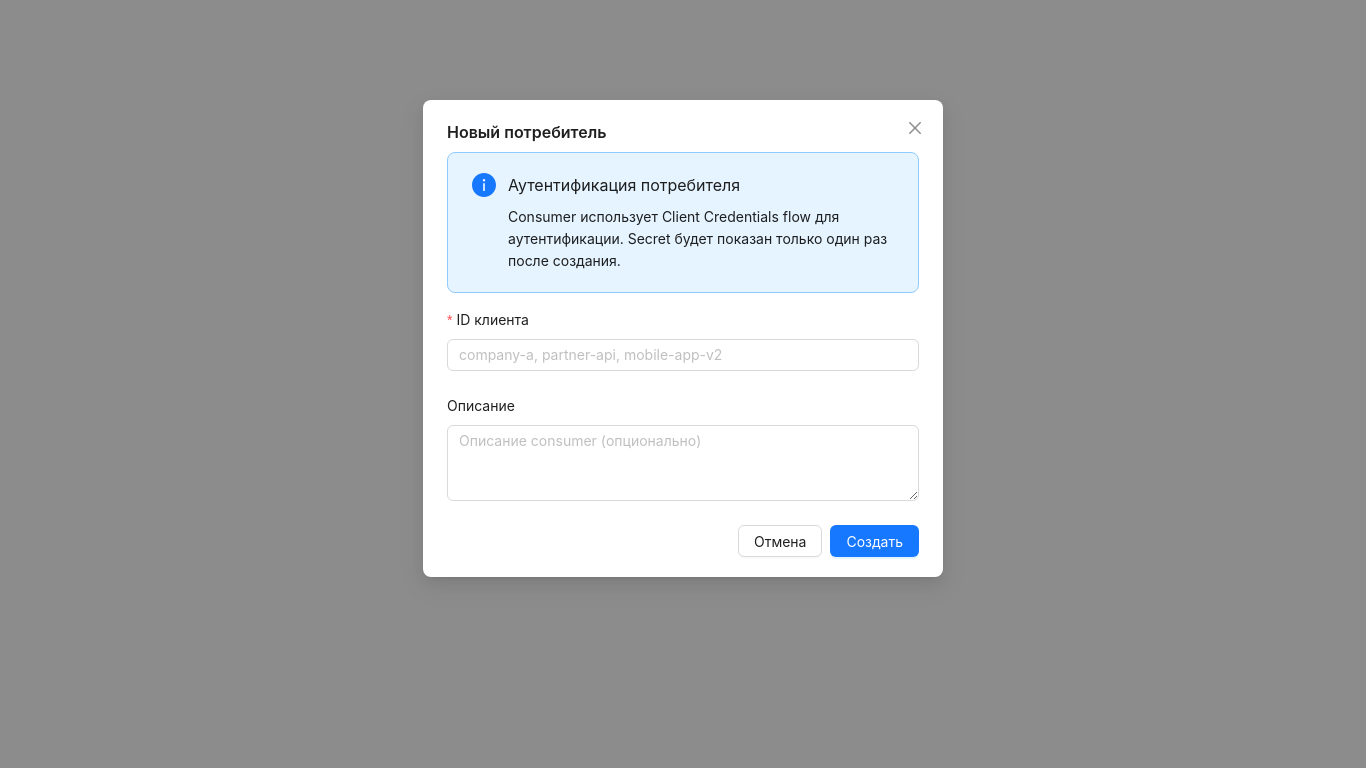
Test: CreateConsumerModal › валидирует Client ID — min/max length (3-63 chars) (AC2)
Вводим слишком короткий Client ID (2 символа)
Type "ab" into the field labelled "ID клиента" at (683, 355), box [447,339,919,371]
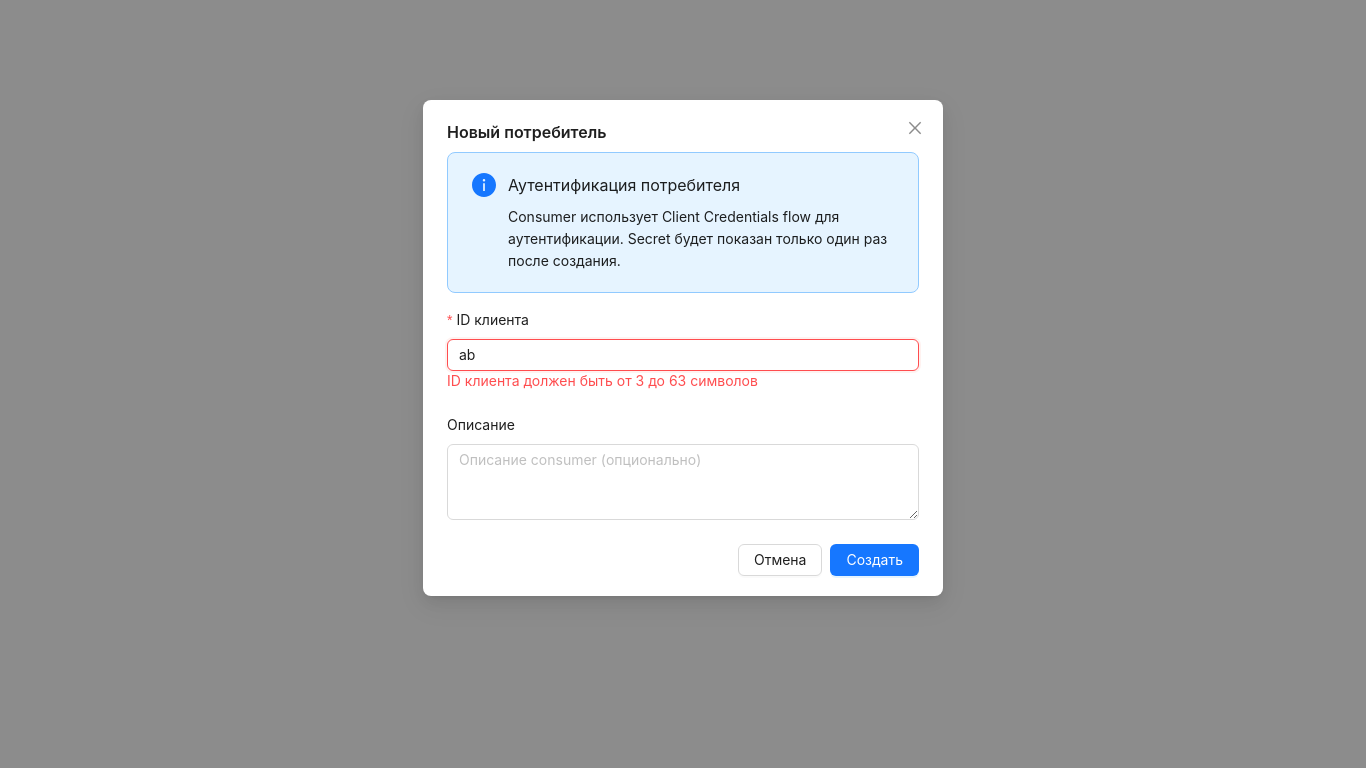
Click the button "Создать" at (875, 562), box [830,546,919,578]
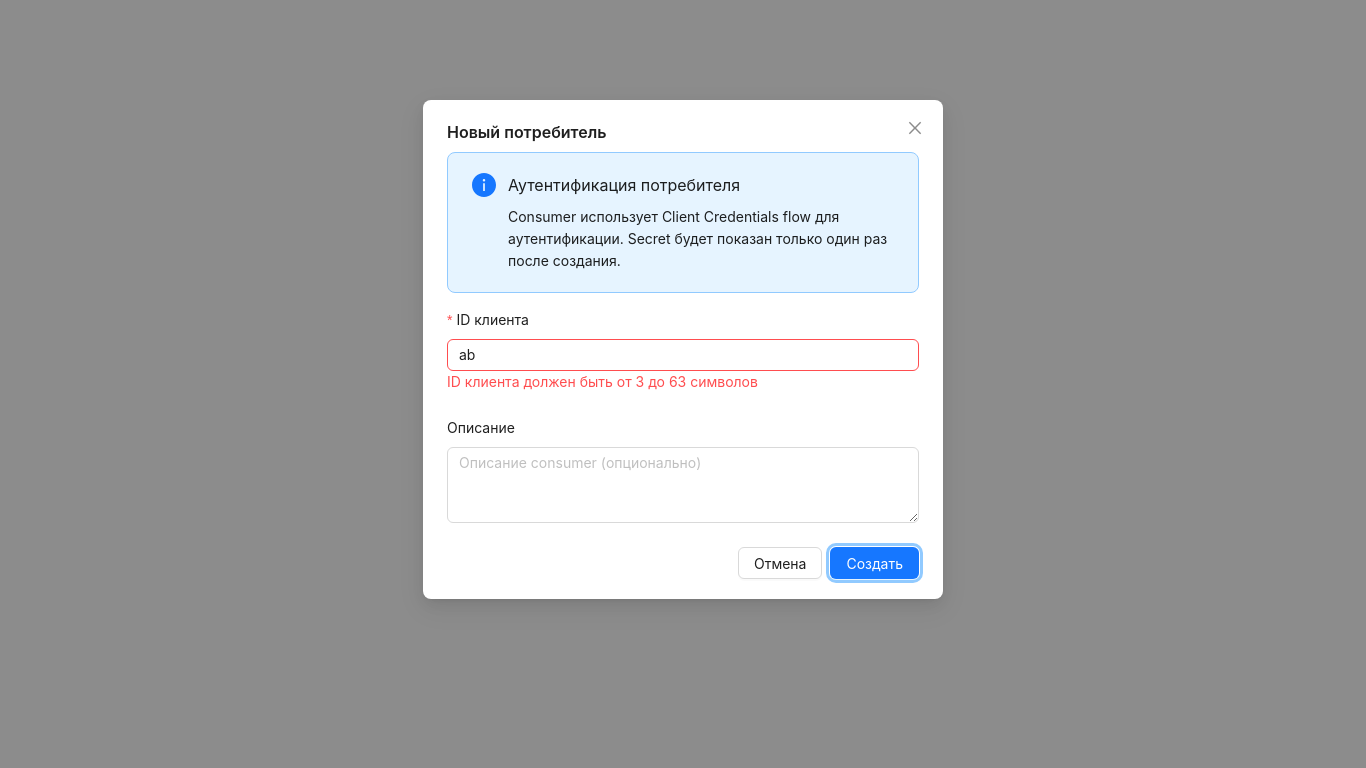
Now the text "ID клиента должен быть от 3 до 63 символов" is shown, box [447,373,758,390]
